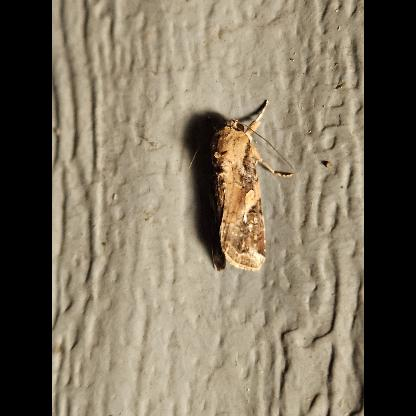Fall Armyworm Moth: (185, 98, 295, 274)
